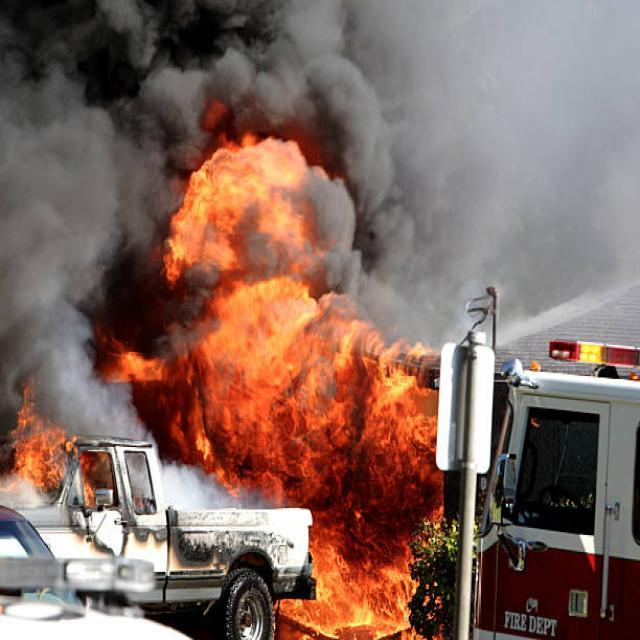Fire: (164, 154, 382, 370), (191, 344, 436, 492), (310, 488, 420, 633)
Smoke: (1, 4, 423, 155), (424, 1, 640, 272), (0, 163, 128, 437), (385, 166, 438, 346), (127, 150, 162, 364)
